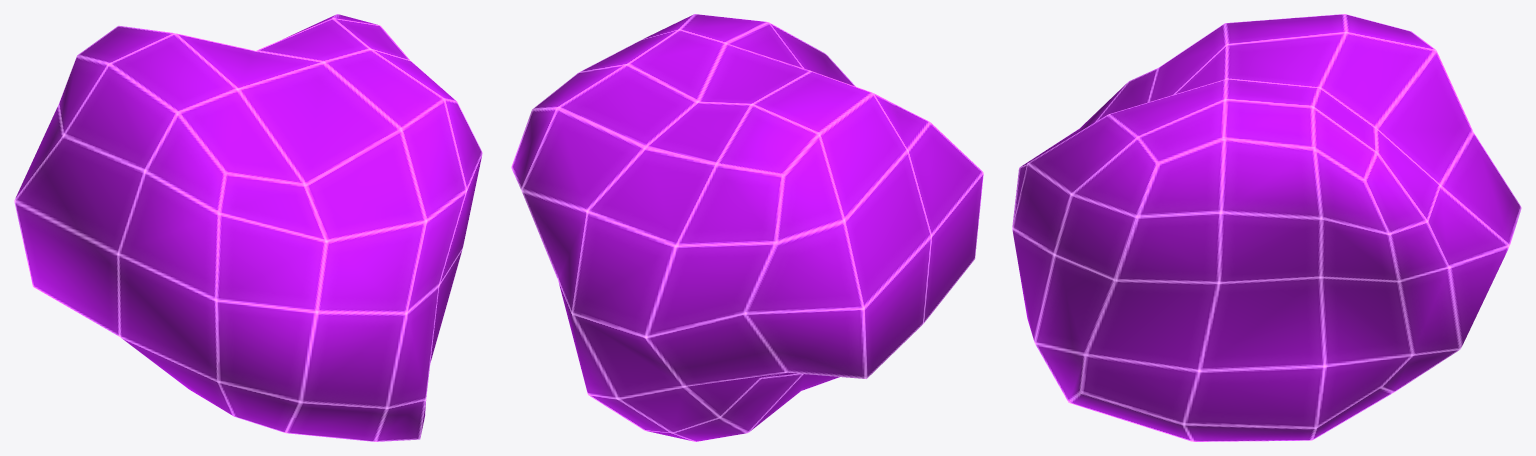
Rendered from Asteroid_middle.FBX.
3 renders of one model, left to right at view 1: azimuth 30°, elevation 25°; view 2: azimuth 150°, elevation 25°; view 3: azimuth 270°, elevation 25°, orthographic. The views are drawn at different scales.
Parts seen in each view (by area): view 1: Asteroid_middle; view 2: Asteroid_middle; view 3: Asteroid_middle.
Boxes of the visible parts, bbox=[...] form: Asteroid_middle: bbox=[14, 14, 482, 441]; Asteroid_middle: bbox=[511, 14, 983, 441]; Asteroid_middle: bbox=[1012, 14, 1521, 441].
Size of the model in its own units: 266 by 264 by 338.
